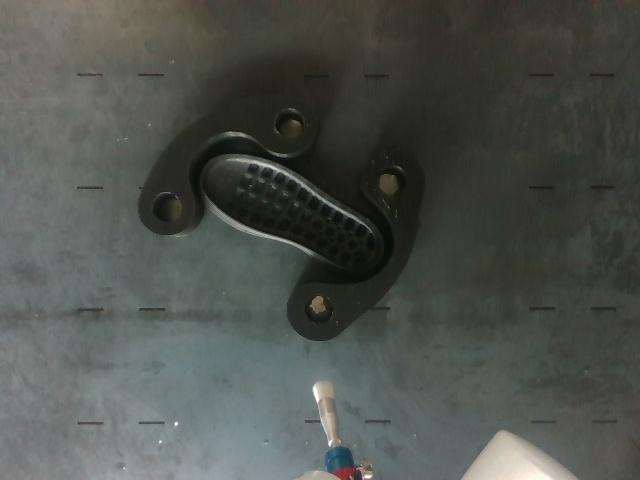shoes: (204, 158, 378, 271)
